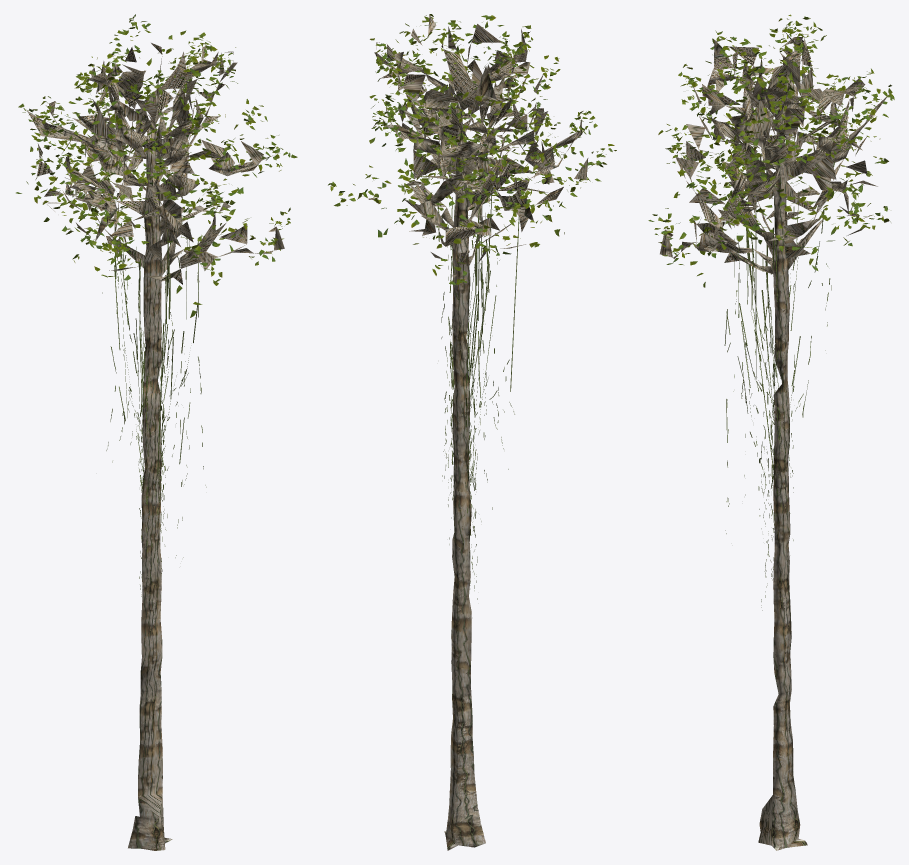
Rendered from arvore_agar.glb.
3 renders of one model, left to right at view 1: azimuth 30°, elevation 25°; view 2: azimuth 150°, elevation 25°; view 3: azimuth 270°, elevation 25°, orthographic.
Parts seen in each view (by area): view 1: arvore_agar; view 2: arvore_agar; view 3: arvore_agar.
Part boxes in pixels (x1=…): arvore_agar: x1=16, y1=14, x2=297, y2=850; arvore_agar: x1=328, y1=14, x2=616, y2=850; arvore_agar: x1=648, y1=14, x2=894, y2=850.
Size of the model in its own units: 2.86 by 10 by 2.72.
Materials: 4 (4 with a texture image).
